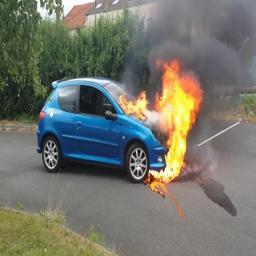fire: (117, 59, 206, 183)
